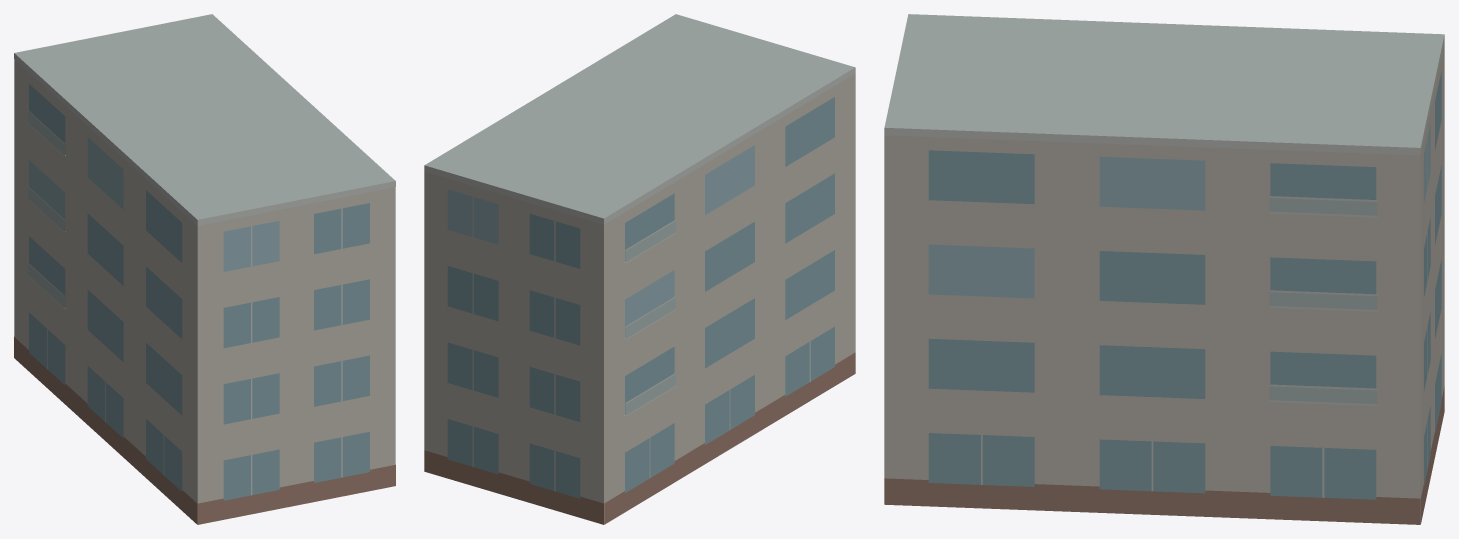
Rendered from residential-7764d562-9b83-4c43-99b8-946652ebcff9.glb.
3 views of the same model, side by side, from view 1: azimuth 30°, elevation 25°; view 2: azimuth 150°, elevation 25°; view 3: azimuth 270°, elevation 25° (orthographic). The views are drawn at different scales.
Visible parts, largest first — view 1: residential-7764d562-9b83-4c43-99b8-946652ebcff9.tmp; view 2: residential-7764d562-9b83-4c43-99b8-946652ebcff9.tmp; view 3: residential-7764d562-9b83-4c43-99b8-946652ebcff9.tmp.
Part boxes in pixels (left/top/right/bottom): residential-7764d562-9b83-4c43-99b8-946652ebcff9.tmp: left=14, top=14, right=395, bottom=524; residential-7764d562-9b83-4c43-99b8-946652ebcff9.tmp: left=424, top=14, right=855, bottom=524; residential-7764d562-9b83-4c43-99b8-946652ebcff9.tmp: left=884, top=14, right=1444, bottom=524.
Bounding box in the file's own units: 9.31 × 12.2 × 16.44.
